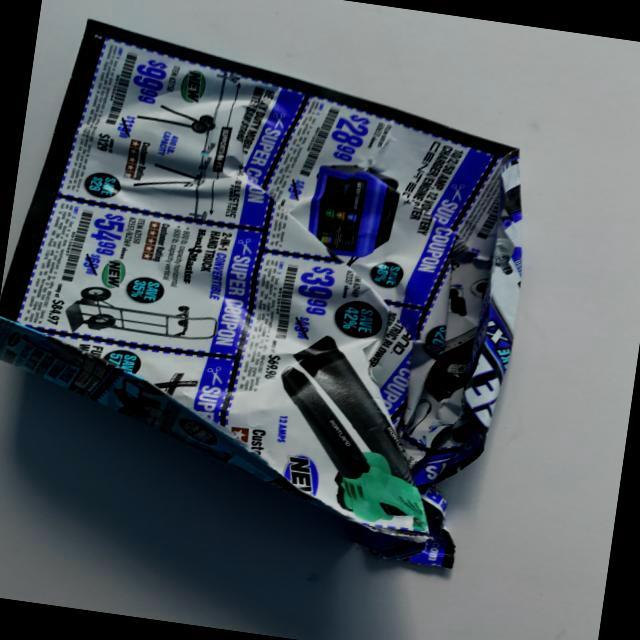paper: (0, 9, 555, 576)
